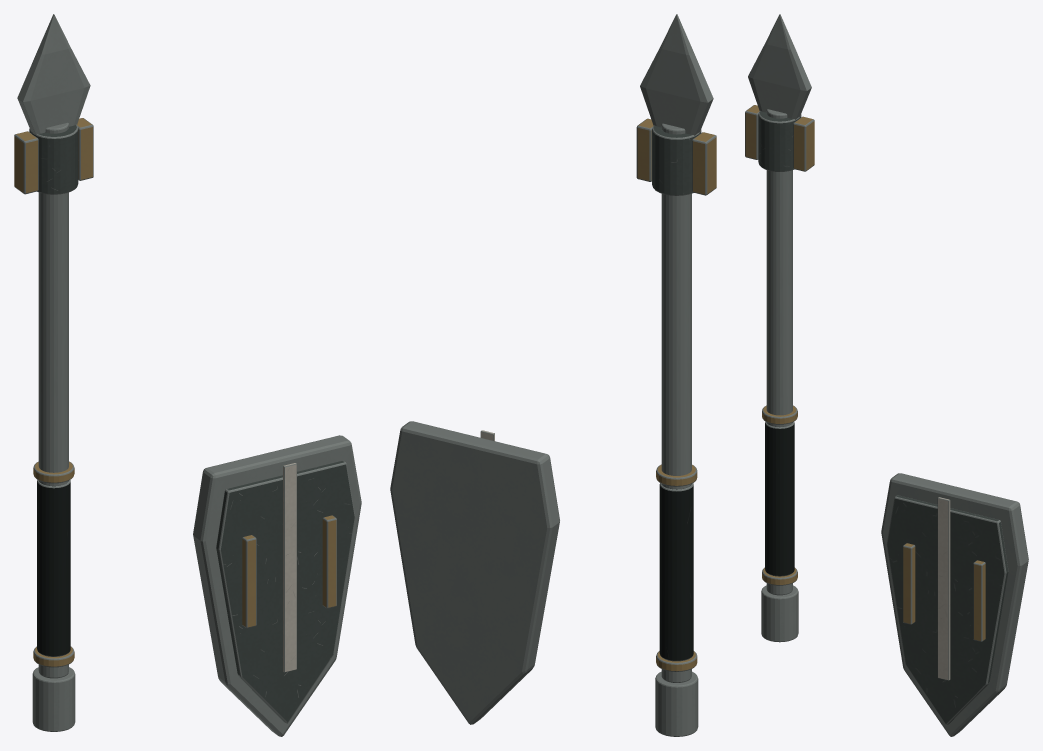
The model's file is spear_shield-t4.glb.
3 renders of one model, left to right at view 1: azimuth 30°, elevation 25°; view 2: azimuth 150°, elevation 25°; view 3: azimuth 330°, elevation 25°, orthographic. The views are drawn at different scales.
Parts seen in each view (by area): view 1: Shield inset, Shield forged rim, Steel shaft, Continuous two-hand wrap, Forged spear point, Shield centre stripe, Spear socket housing, Spear rear counterweight, Socket stabilizer, Shield layered rib, Shield layered rib.001, Socket stabilizer.001; view 2: Shield forged rim, Steel shaft, Continuous two-hand wrap, Forged spear point, Spear socket housing, Spear rear counterweight, Socket stabilizer, Socket stabilizer.001, Grip ferrule.001; view 3: Shield inset, Shield forged rim, Steel shaft, Continuous two-hand wrap, Forged spear point, Shield centre stripe, Spear socket housing, Spear rear counterweight, Socket stabilizer.001, Shield layered rib.001, Shield layered rib, Socket stabilizer.
Part boxes in pixels (x1,y1,x2,y2): Shield inset: (216,460,355,723); Shield forged rim: (193,435,361,736); Steel shaft: (38,122,68,678); Continuous two-hand wrap: (37,480,70,656); Forged spear point: (17,14,90,134); Shield centre stripe: (283,463,296,672); Spear socket housing: (29,124,78,194); Spear rear counterweight: (32,667,75,731); Socket stabilizer: (14,131,38,194); Shield layered rib: (242,535,256,628); Shield layered rib.001: (322,515,336,608); Socket stabilizer.001: (77,118,93,180); Shield forged rim: (390,421,559,724); Steel shaft: (661,123,691,682); Continuous two-hand wrap: (659,483,693,661); Forged spear point: (640,14,713,135); Spear socket housing: (652,125,701,195); Spear rear counterweight: (655,671,698,736); Socket stabilizer: (692,132,716,195); Socket stabilizer.001: (636,118,653,181); Grip ferrule.001: (656,464,697,486); Shield inset: (886,495,1008,725); Shield forged rim: (881,473,1028,736); Steel shaft: (766,109,792,595); Continuous two-hand wrap: (765,421,794,576); Forged spear point: (748,14,811,119); Shield centre stripe: (937,497,950,680); Spear socket housing: (758,111,801,171); Spear rear counterweight: (761,585,798,642); Socket stabilizer.001: (793,116,814,171); Shield layered rib.001: (973,560,985,641); Shield layered rib: (903,543,915,624); Socket stabilizer: (745,105,759,159).
Bounding box in the file's own units: 1.55 × 3.44 × 0.315.
Materials: 5 (5 with a texture image).
